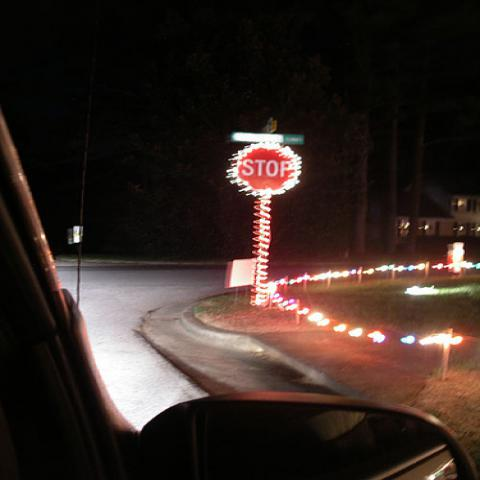car: (3, 115, 476, 470)
